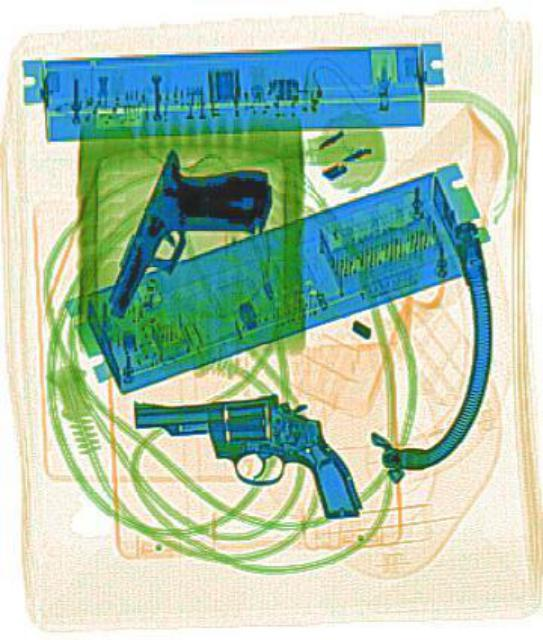Gun: (103, 128, 274, 350), (130, 392, 359, 524)
